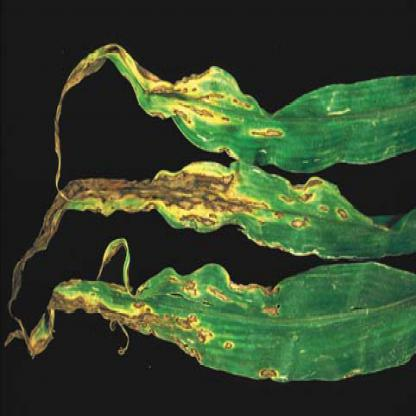corn leaf blight: (35, 41, 415, 169), (8, 267, 415, 385), (8, 169, 415, 260)
